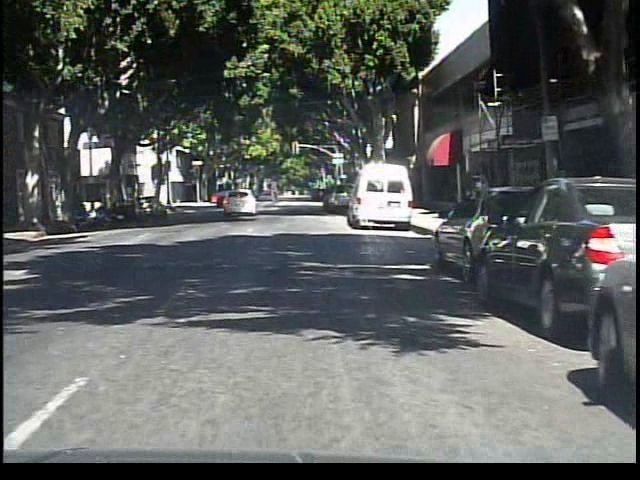person: (467, 167, 495, 226), (264, 177, 285, 211)
